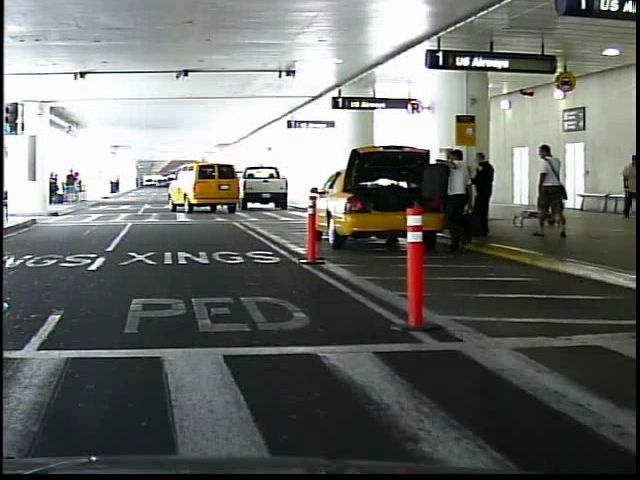person: (527, 138, 566, 240), (613, 150, 636, 221)
